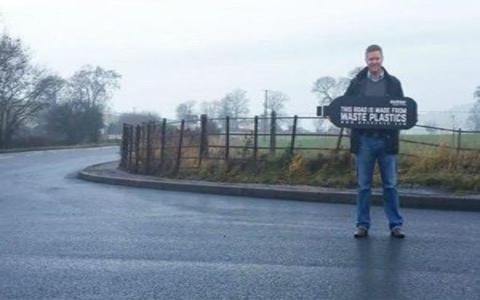Proper road: (12, 176, 230, 291), (237, 232, 480, 298)
